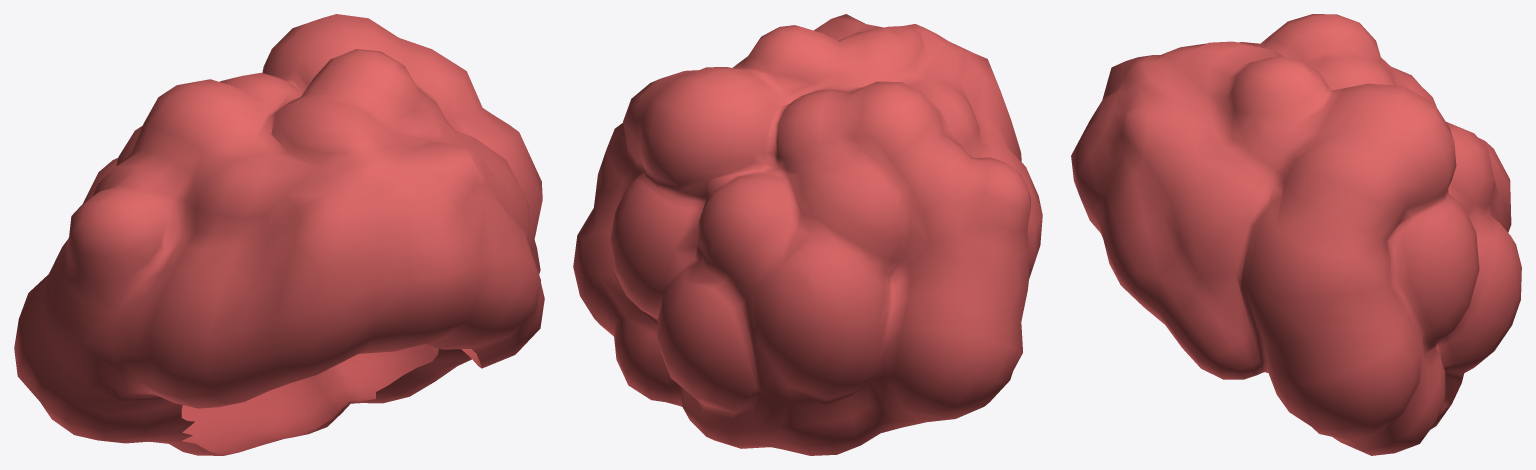
Rendered from Hairstyle_Female_11.glb.
3 views of the same model, side by side, from view 1: azimuth 30°, elevation 25°; view 2: azimuth 150°, elevation 25°; view 3: azimuth 270°, elevation 25° (orthographic). The views are drawn at different scales.
Parts seen in each view (by area): view 1: Hairstyle_Female_11; view 2: Hairstyle_Female_11; view 3: Hairstyle_Female_11.
Part boxes in pixels (bbox=[...]): Hairstyle_Female_11: bbox=[14, 14, 544, 455]; Hairstyle_Female_11: bbox=[573, 14, 1042, 455]; Hairstyle_Female_11: bbox=[1071, 14, 1521, 455].
Size of the model in its own units: 0.7879 by 0.6422 by 0.6988.
1 material, 1 textured.
